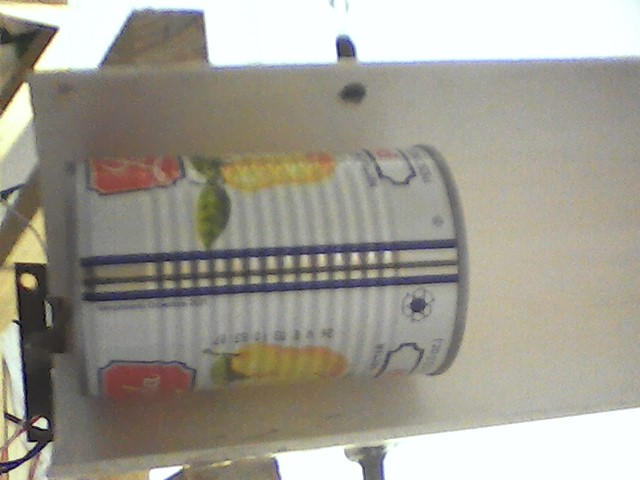lata: (59, 143, 475, 403)
